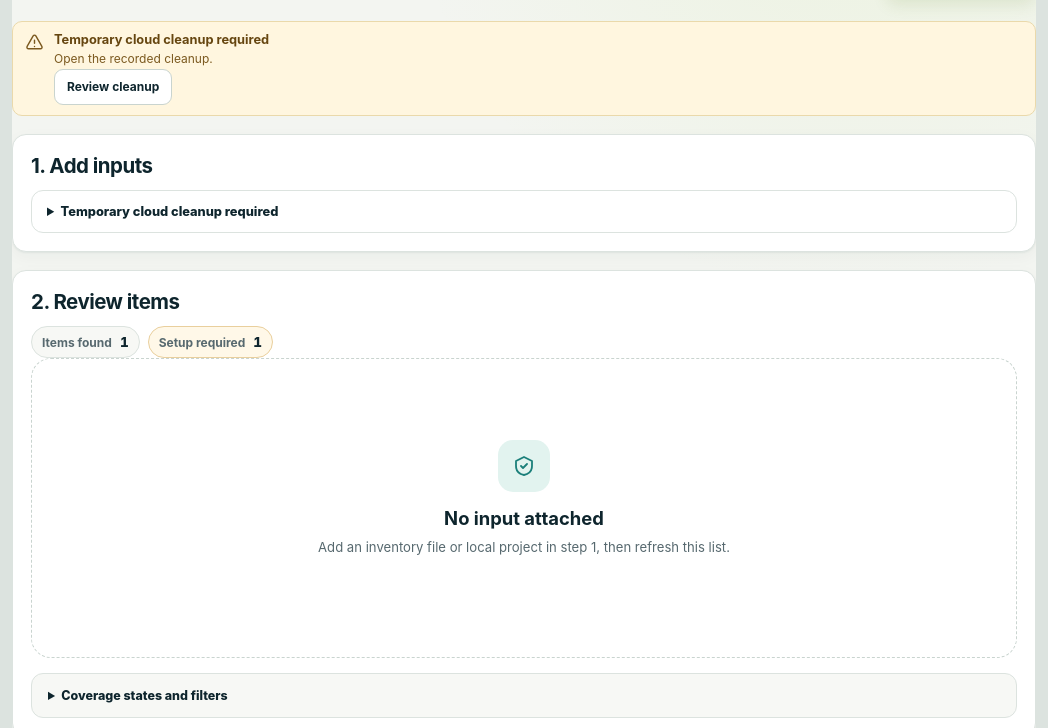
Scenario: a collapsed source setup keeps unresolved temporary-cloud cleanup visible and directly reviewable
Check: the heading "Temporary cloud cleanup required" is shown, box [60,204,278,219]
Check: the message "Temporary cloud cleanup required Open the recorded cleanup. Review cleanup" is shown, box [12,21,1036,116]
Click the button "Review cleanup". click: (113, 87)
box: [54,69,172,105]
(page scrolled)
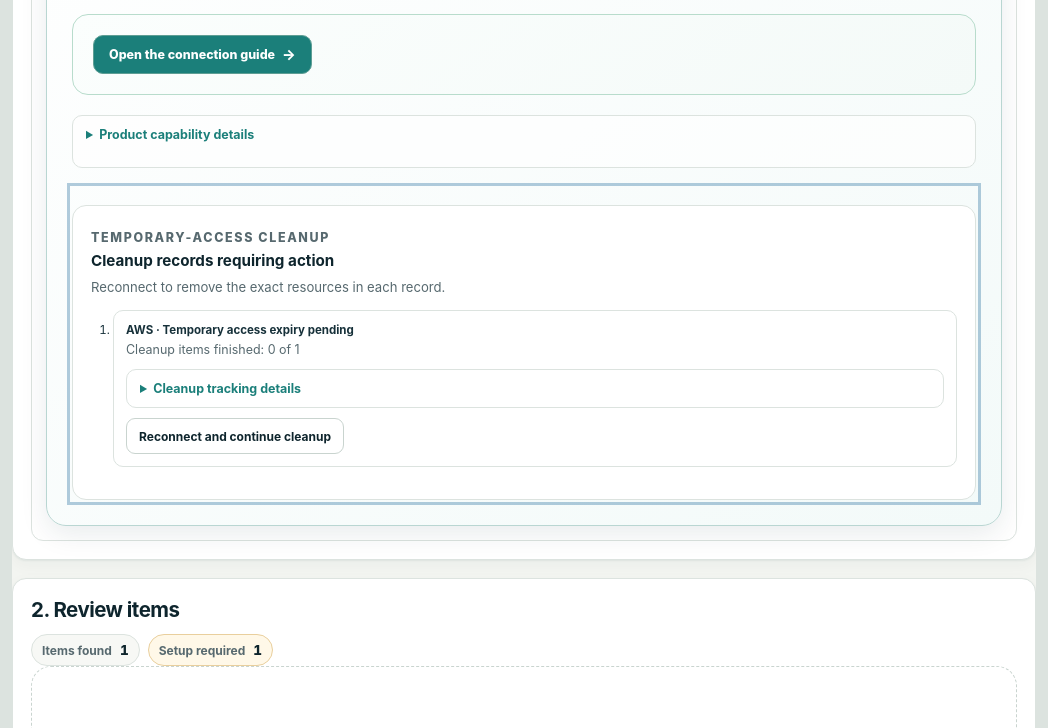
Check: the heading "Cleanup records requiring action" is shown, box [91,251,334,270]
Check: the text "AWS · Temporary access expiry pending" is shown, box [126,322,354,336]
Check: the button "Reconnect and continue cleanup" is shown, box [126,418,344,454]
